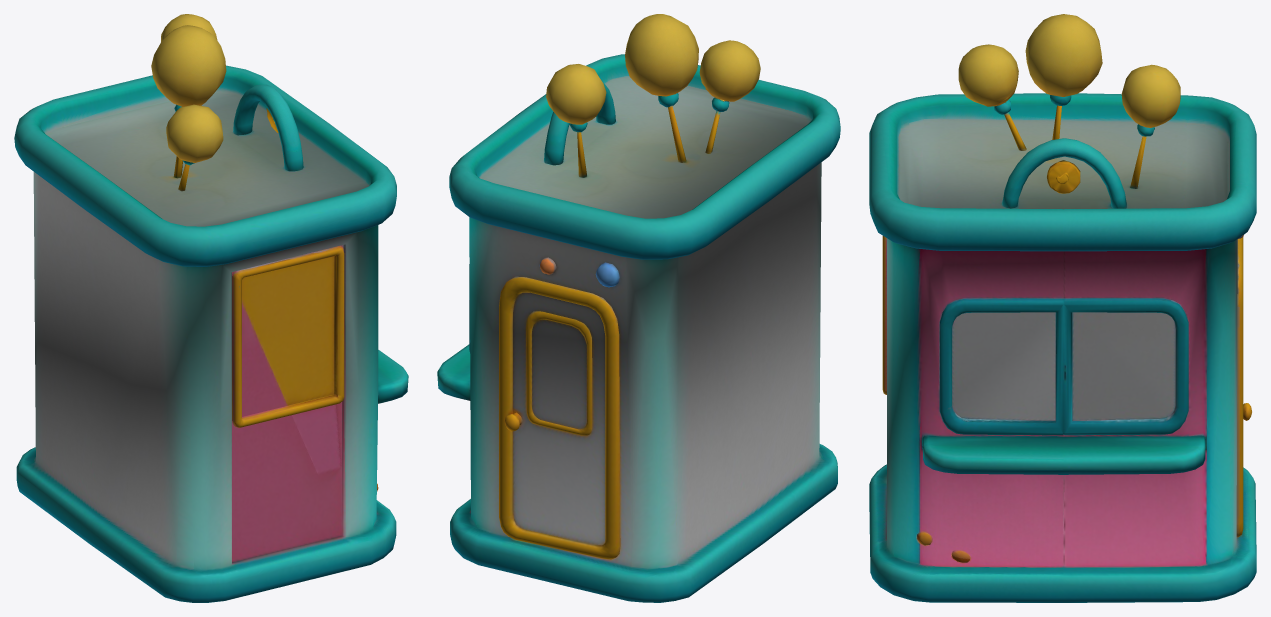
The model's file is tripo_convert_109927c0-eefa-4094-a735-1201f74ff2c4.fbx.
The picture shows the model from 3 angles, left to right: view 1: azimuth 30°, elevation 25°; view 2: azimuth 150°, elevation 25°; view 3: azimuth 270°, elevation 25°; orthographic projection. The views are drawn at different scales.
Parts seen in each view (by area): view 1: tripo_node_109927c0; view 2: tripo_node_109927c0; view 3: tripo_node_109927c0.
Part boxes in pixels (x1,y1,x2,y2): tripo_node_109927c0: (14, 14, 408, 602); tripo_node_109927c0: (437, 14, 840, 602); tripo_node_109927c0: (869, 14, 1256, 602).
Bounding box in the file's own units: 0.5801 × 0.998 × 0.6777.
Materials: 1 (1 with a texture image).
